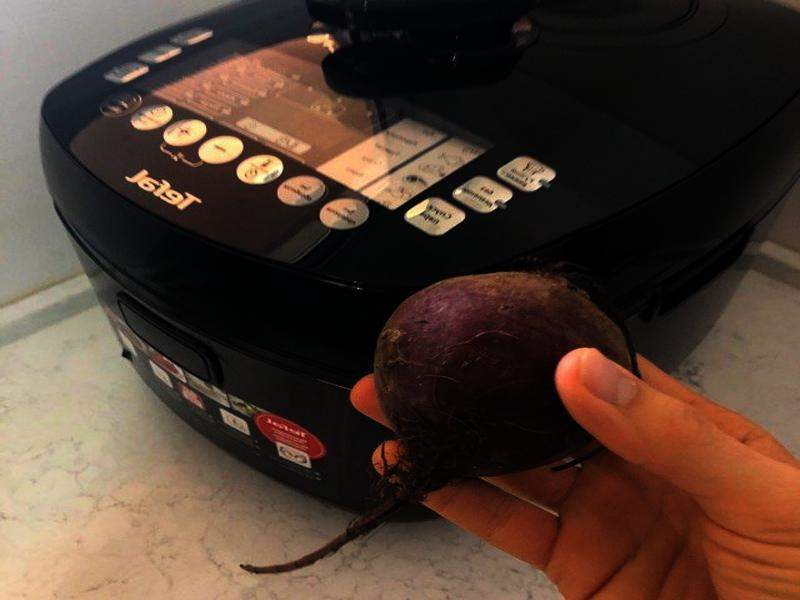Beet: (242, 258, 636, 572)
